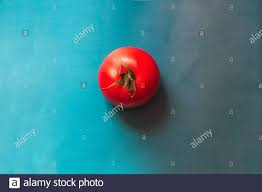tomato: (98, 46, 159, 108)
